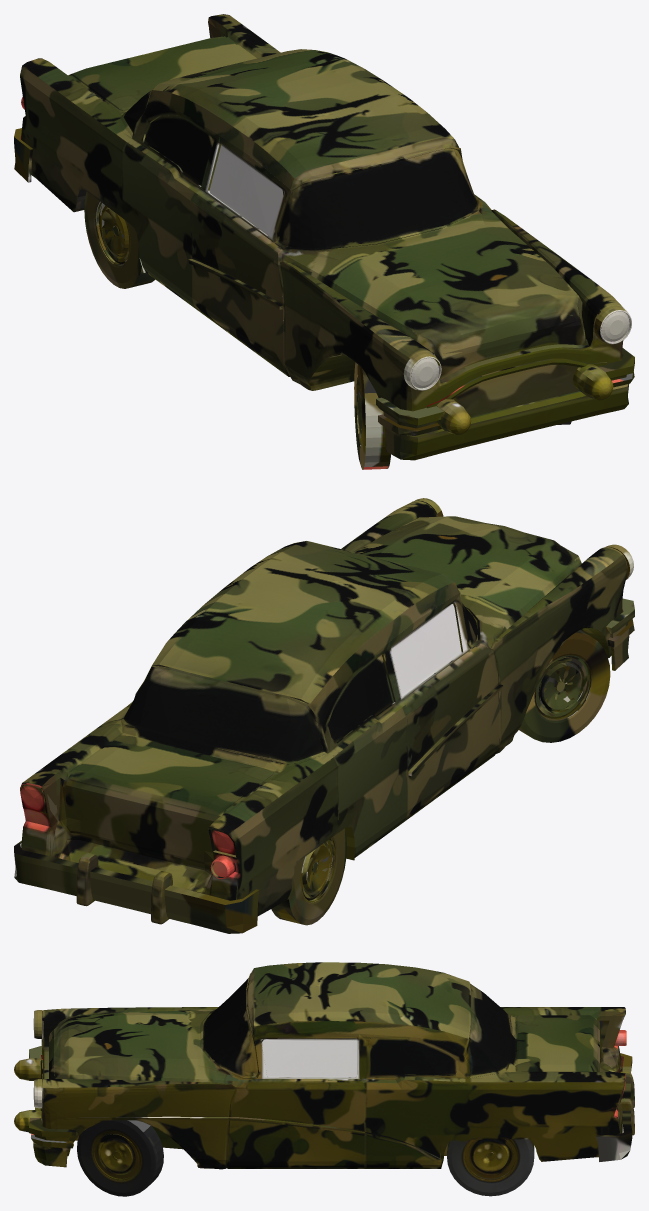
The picture shows the model from 3 angles, top to bottom: view 1: azimuth 30°, elevation 25°; view 2: azimuth 150°, elevation 25°; view 3: azimuth 270°, elevation 25°; orthographic projection. The views are drawn at different scales.
Parts seen in each view (by area): view 1: textured.obj; view 2: textured.obj; view 3: textured.obj.
Part boxes in pixels (left/top/right/bottom): textured.obj: left=14, top=14, right=634, bottom=469; textured.obj: left=14, top=498, right=634, bottom=933; textured.obj: left=14, top=962, right=634, bottom=1196.
Bounding box in the file's own units: 0.678 × 0.612 × 2.
